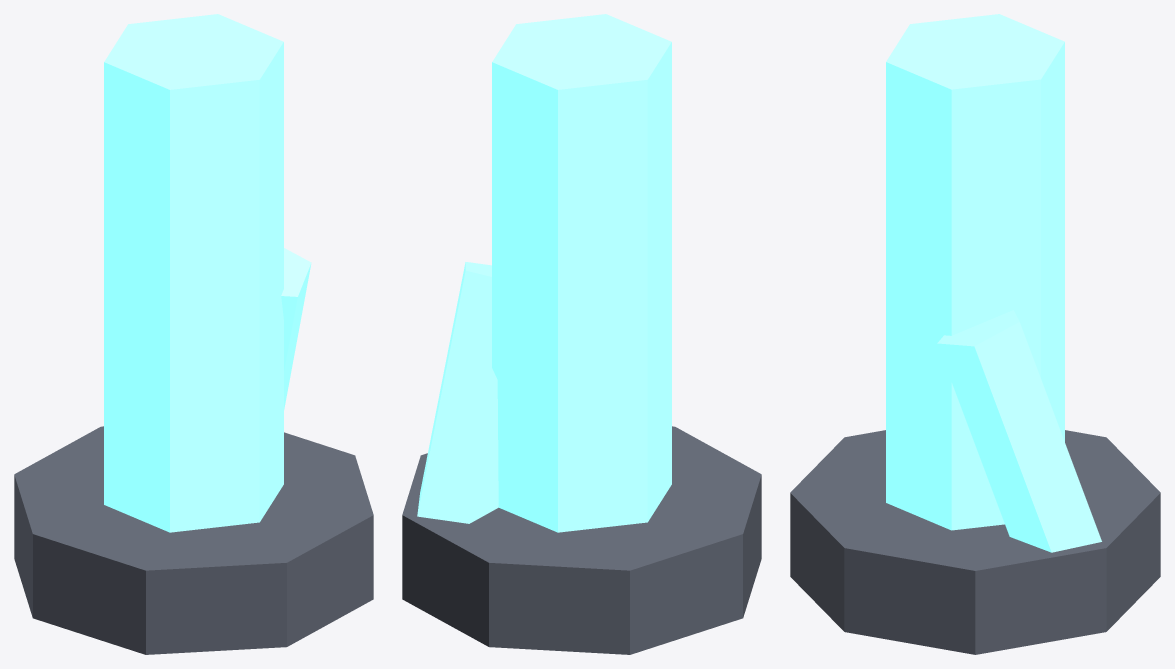
Rendered from crystal-pylon.glb.
The picture shows the model from 3 angles, left to right: view 1: azimuth 30°, elevation 25°; view 2: azimuth 150°, elevation 25°; view 3: azimuth 270°, elevation 25°; orthographic projection.
Parts seen in each view (by area): view 1: Resonance_Crystal, Pylon_Base, Crystal_Shard; view 2: Resonance_Crystal, Pylon_Base, Crystal_Shard; view 3: Resonance_Crystal, Pylon_Base, Crystal_Shard.
Boxes of the visible parts, <box> form: Resonance_Crystal: <box>104,14,283,532</box>; Pylon_Base: <box>14,426,373,654</box>; Crystal_Shard: <box>281,248,311,409</box>; Resonance_Crystal: <box>492,14,671,532</box>; Pylon_Base: <box>402,426,761,654</box>; Crystal_Shard: <box>417,262,498,523</box>; Resonance_Crystal: <box>886,14,1064,530</box>; Pylon_Base: <box>790,430,1160,654</box>; Crystal_Shard: <box>937,310,1101,552</box>.
Size of the model in its own units: 1.6 by 2.5 by 1.6.
